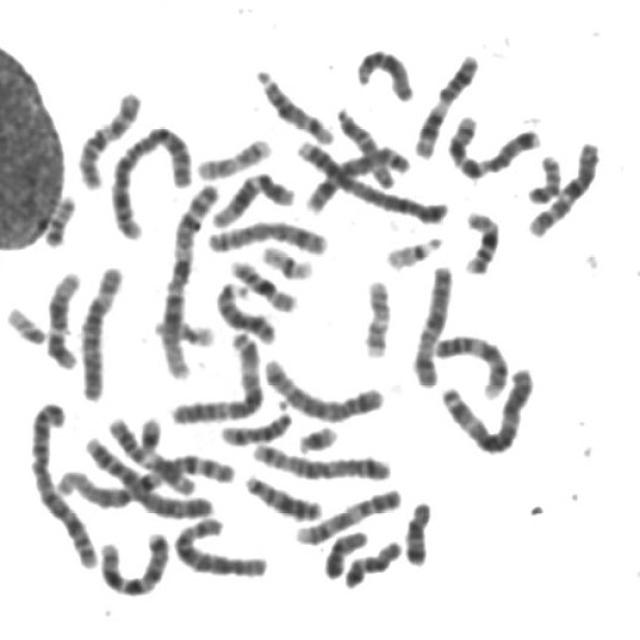A1: (155, 176, 225, 382), (51, 446, 240, 510)
A2: (22, 392, 102, 570), (104, 116, 195, 241)
A3: (164, 323, 266, 425), (435, 360, 538, 456)
B4: (292, 132, 450, 226), (81, 438, 215, 526)
B5: (257, 350, 388, 424), (246, 434, 394, 483)
C10: (522, 133, 604, 239), (70, 82, 146, 191)
C11: (408, 45, 482, 160), (112, 422, 193, 494)
C12: (206, 163, 297, 230), (38, 263, 85, 371)
C6: (72, 258, 128, 402), (168, 510, 272, 580)
C7: (442, 108, 544, 180), (92, 523, 173, 599)
C8: (300, 138, 420, 215), (202, 212, 332, 256)
C9: (290, 480, 404, 548), (428, 326, 512, 401)
D13: (208, 273, 279, 346), (238, 466, 326, 522)
D14: (249, 60, 337, 146), (214, 401, 296, 446)
D15: (330, 98, 399, 192), (349, 40, 417, 104)
E16: (223, 251, 301, 313), (456, 201, 503, 276)
E17: (190, 129, 276, 182), (356, 270, 394, 360)
E18: (338, 532, 406, 590), (398, 492, 436, 567)
F19: (256, 236, 317, 282), (149, 314, 216, 350)
F20: (37, 186, 80, 248), (522, 146, 566, 206)
G21: (290, 417, 342, 456), (132, 408, 164, 455)
G22: (379, 227, 446, 270), (0, 298, 49, 347)
X: (407, 256, 458, 389)
